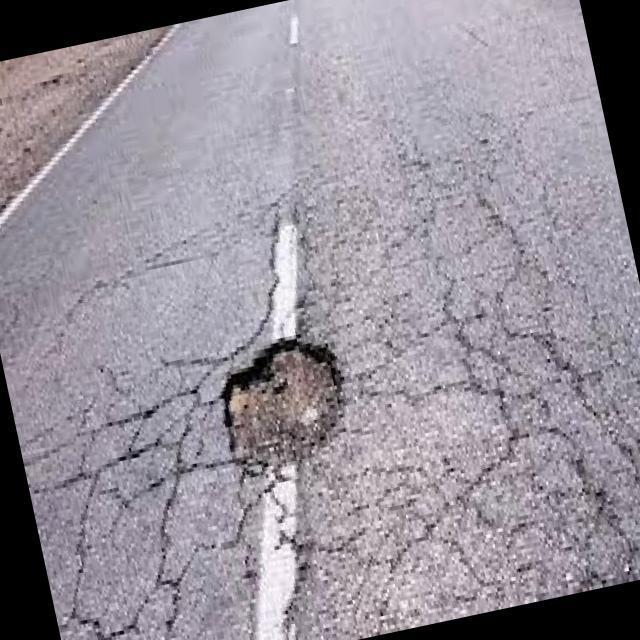Pothole: (222, 342, 345, 478)
